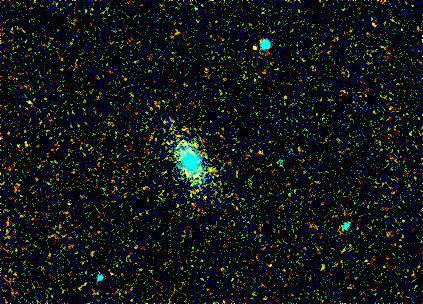star: (240, 31, 270, 61)
